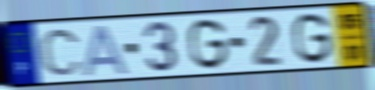2: (249, 14, 284, 68)
3: (141, 19, 179, 75)
A: (81, 23, 133, 78)
C: (38, 27, 84, 77)
G: (292, 11, 335, 66), (188, 17, 231, 72)
